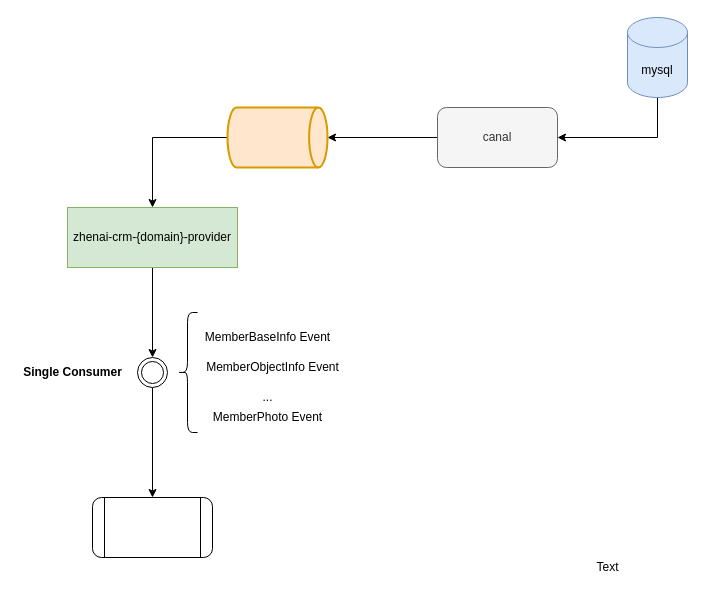
Image size: 705x595. Some labels were removed from this diagram. The box of each missing label's shape, as (x1, y1, x2, y2) in pixels:
RocketMQ: (226, 106, 328, 168)
Single processor: (92, 496, 212, 558)
